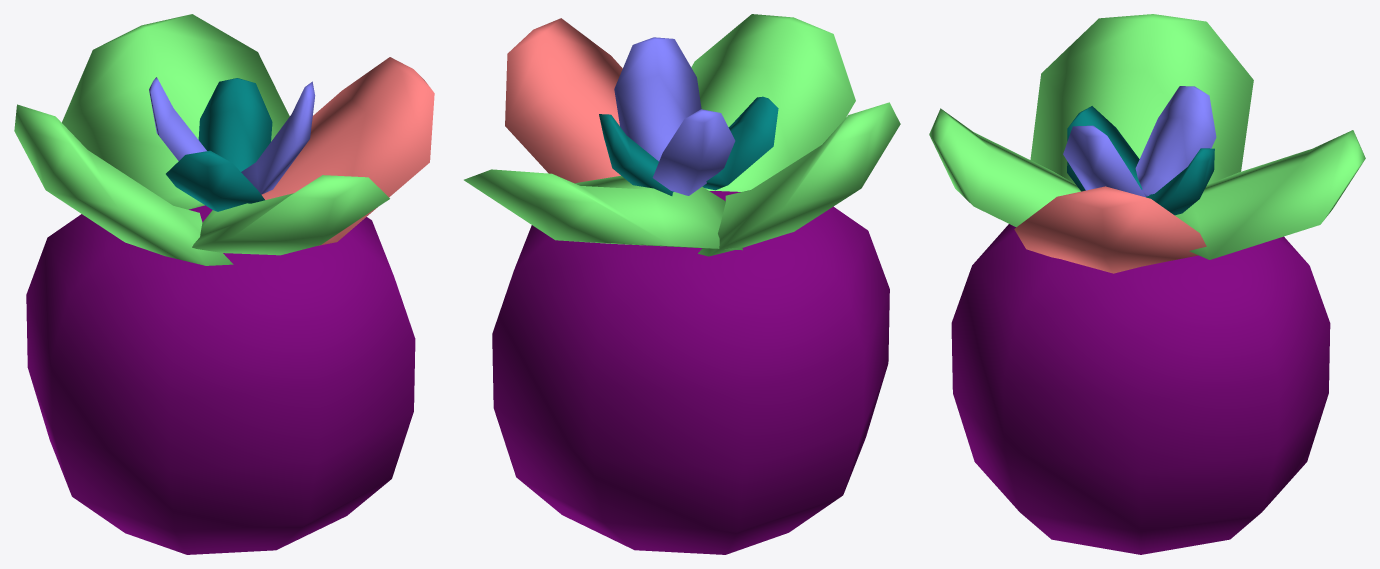
Rendered from Cactus06.fbx.
The picture shows the model from 3 angles, left to right: view 1: azimuth 30°, elevation 25°; view 2: azimuth 150°, elevation 25°; view 3: azimuth 270°, elevation 25°; orthographic projection. The views are drawn at different scales.
Visible parts, largest first — view 1: Low_Cactus06; view 2: Low_Cactus06; view 3: Low_Cactus06.
Boxes of the visible parts, bbox=[...] form: Low_Cactus06: bbox=[14, 14, 434, 554]; Low_Cactus06: bbox=[464, 14, 900, 554]; Low_Cactus06: bbox=[929, 14, 1365, 554].
Bounding box in the file's own units: 230 × 268 × 246.
